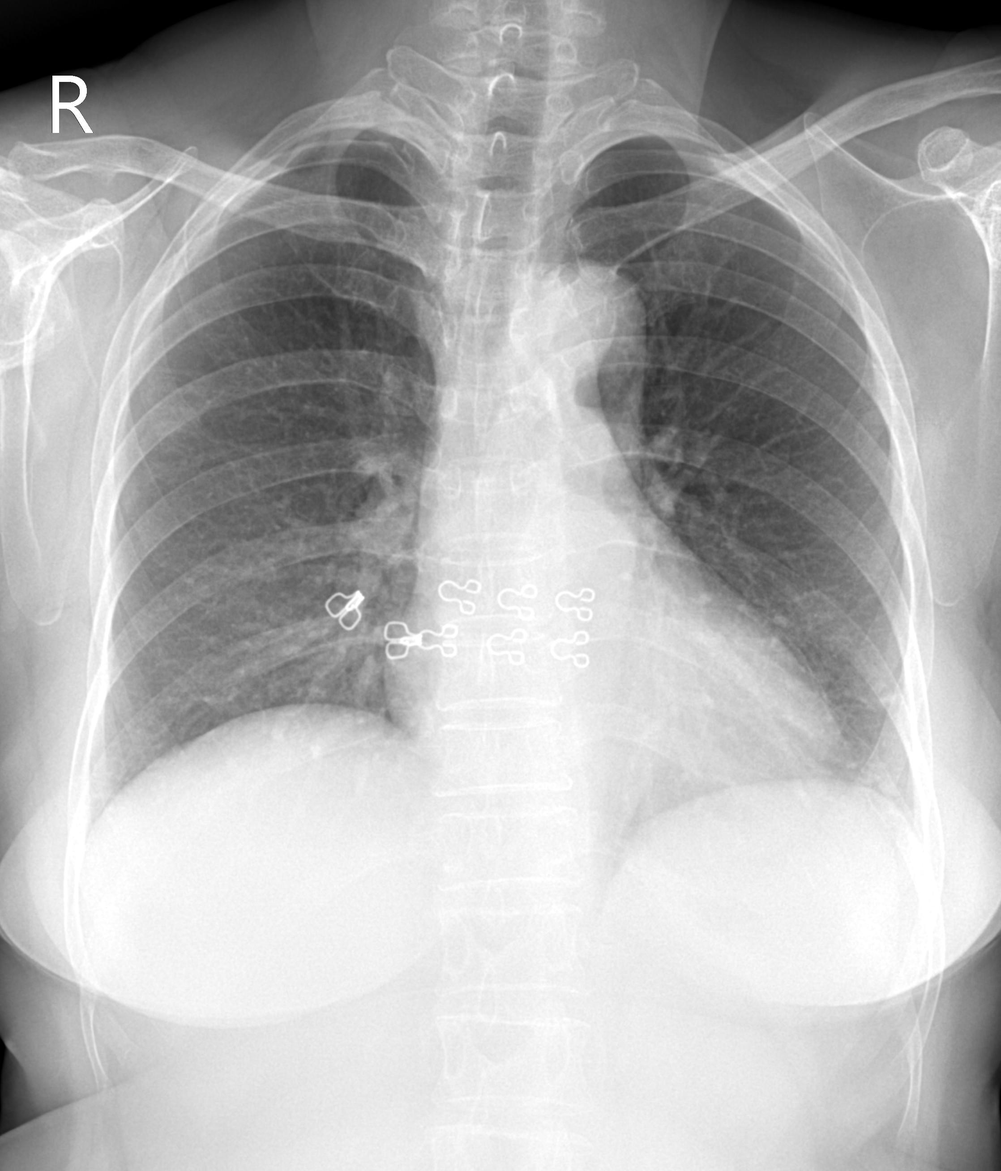Aortic enlargement: (520, 262, 648, 425)
Cardiomegaly: (382, 625, 838, 779)
